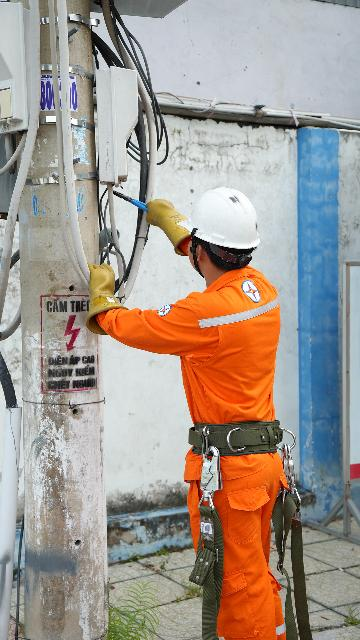gloves: (75, 262, 136, 333), (137, 187, 203, 250)
harness: (177, 407, 308, 465)
helmet: (175, 189, 273, 258)
